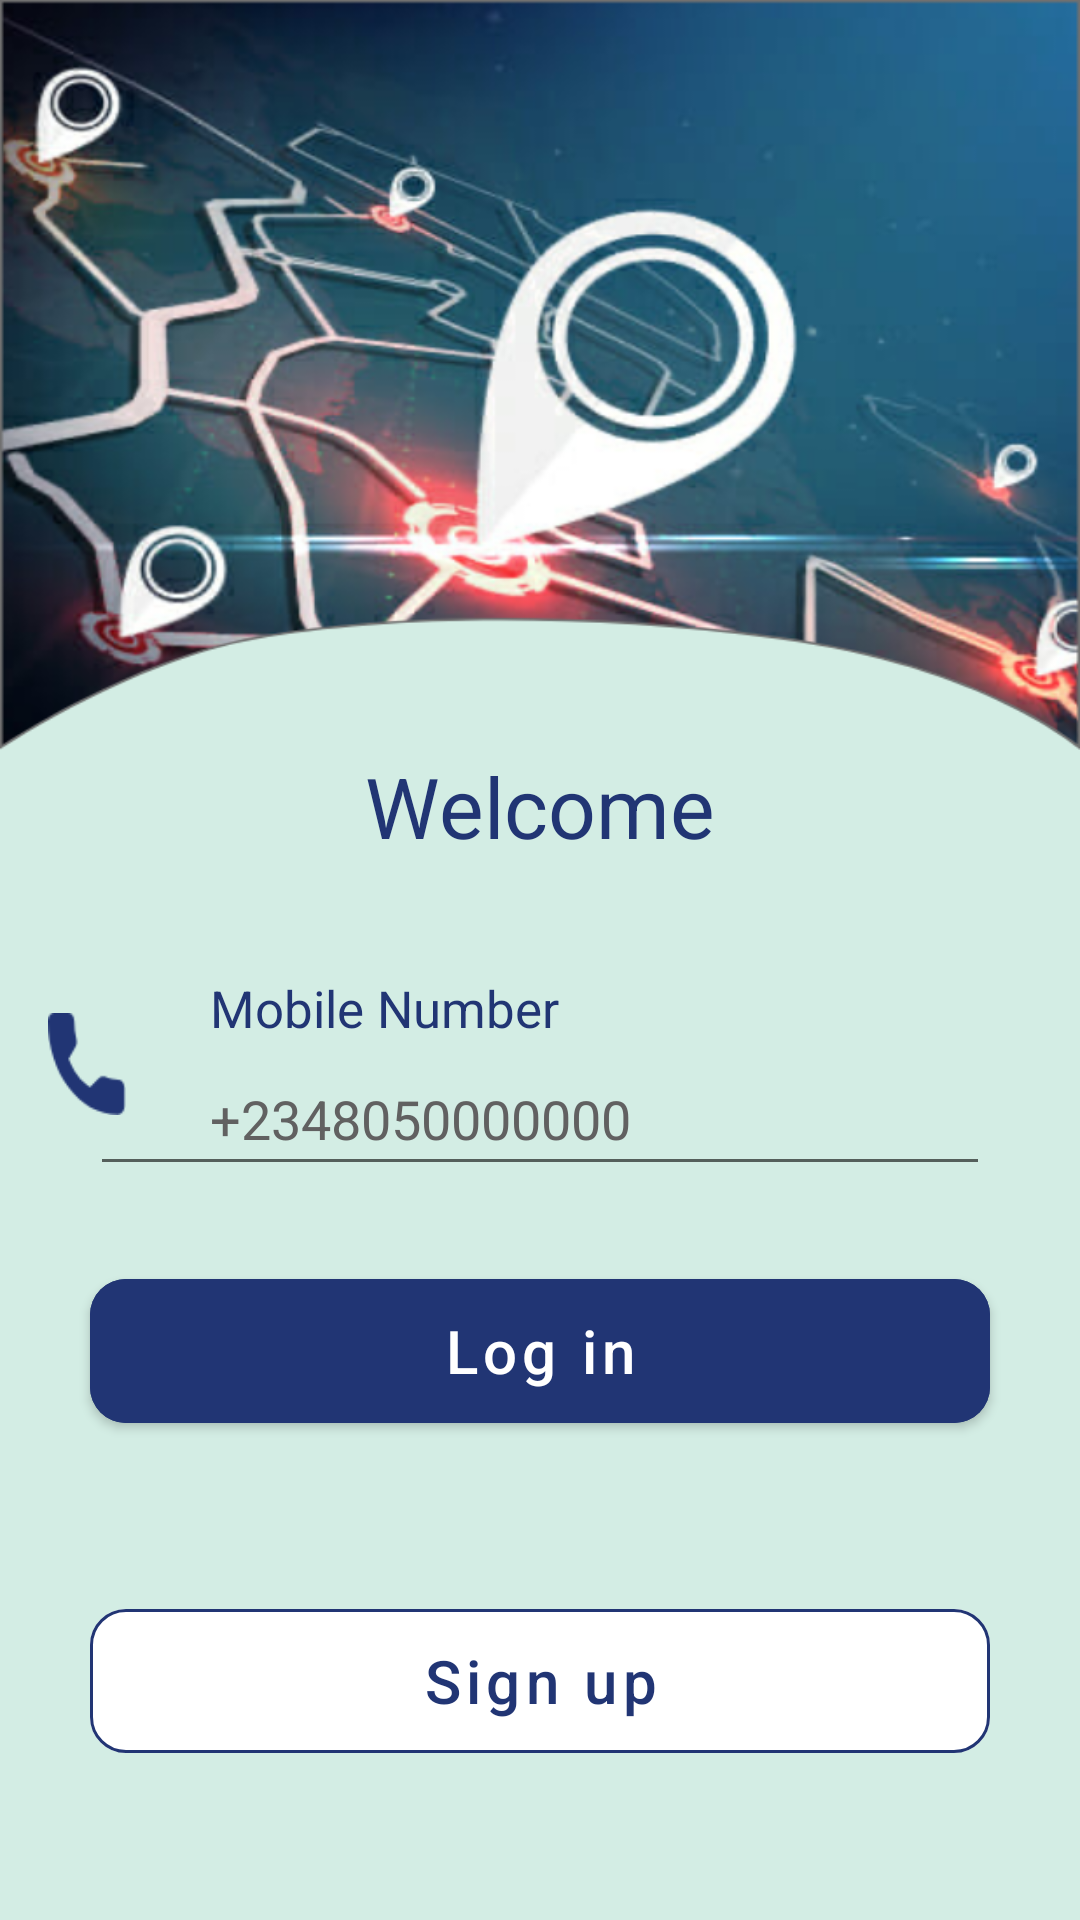

Icon click points for this 1080w x 1920h phone screenshot, format (x=x, y=y):
call: (x=87, y=1064)
